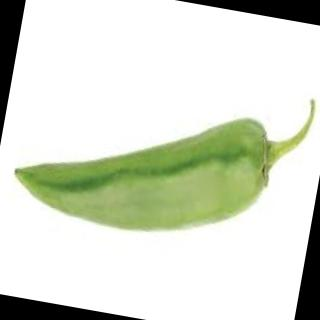Cabai Hijau: (15, 102, 318, 234)
